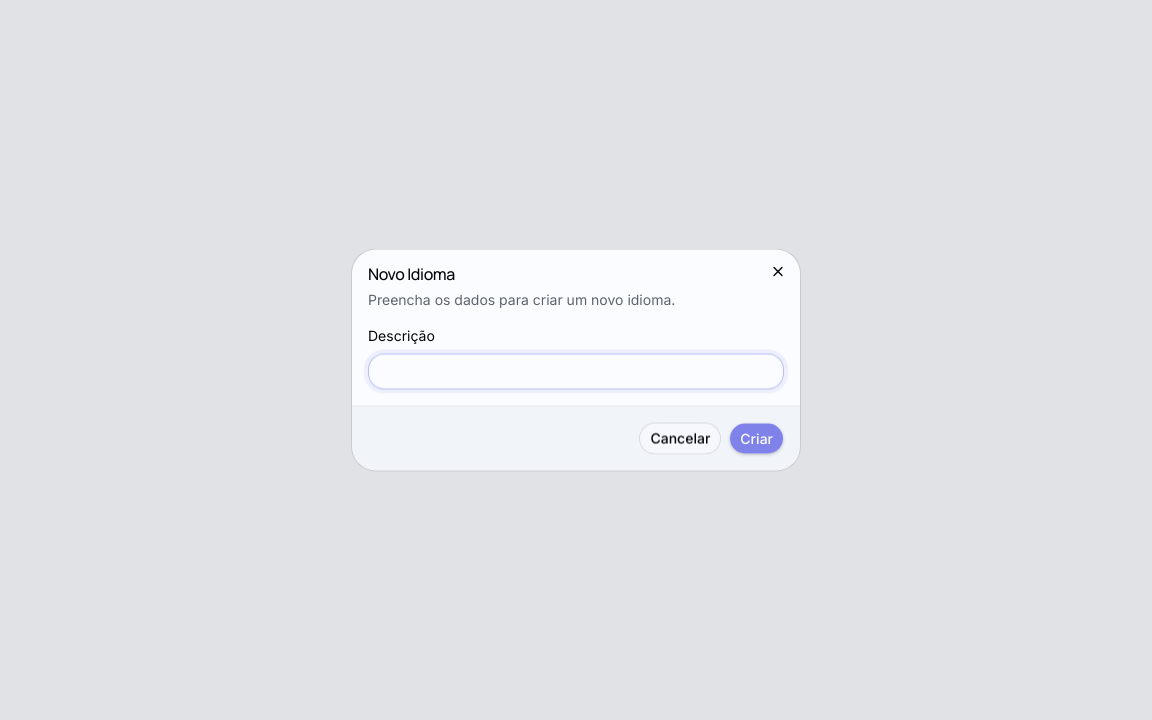
Test: LanguageFormDialog › renders create mode defaults and validates required description
Expected: the heading "Novo Idioma" is shown, x1=368 y1=262 x2=455 y2=284
Click the button "Criar" at (757, 438), box x1=729 y1=422 x2=784 y2=454
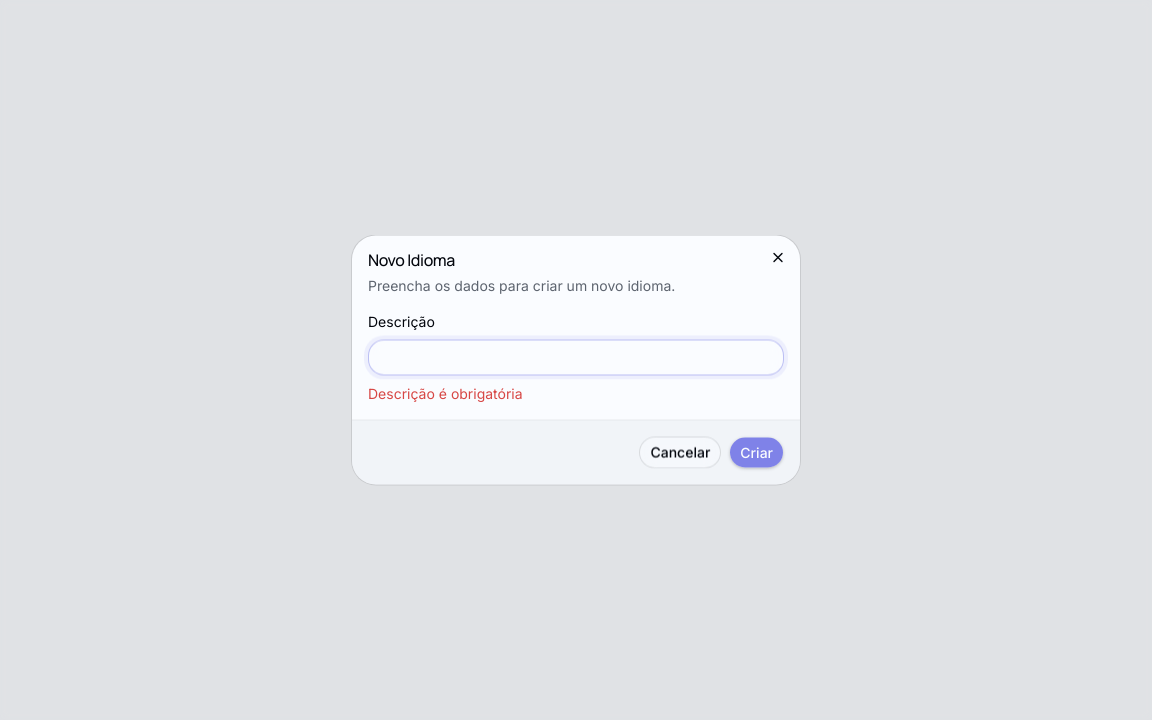
Now the text "Descrição é obrigatória" is shown, box x1=368 y1=384 x2=523 y2=402
